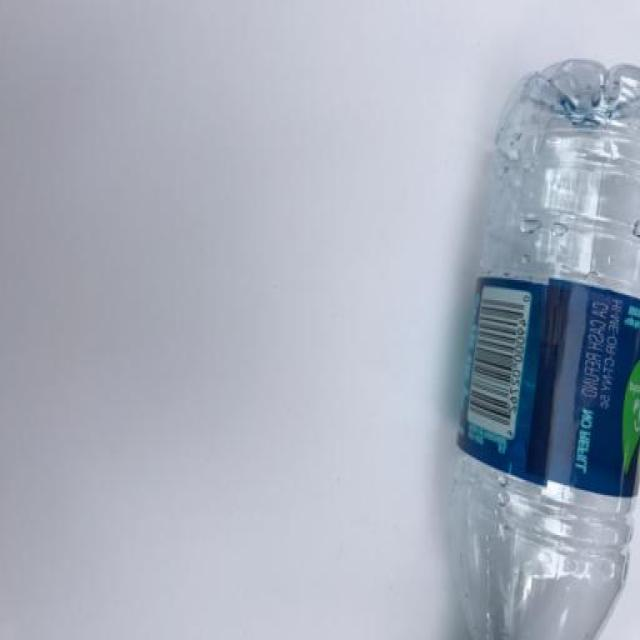plastic: (452, 55, 640, 640)
